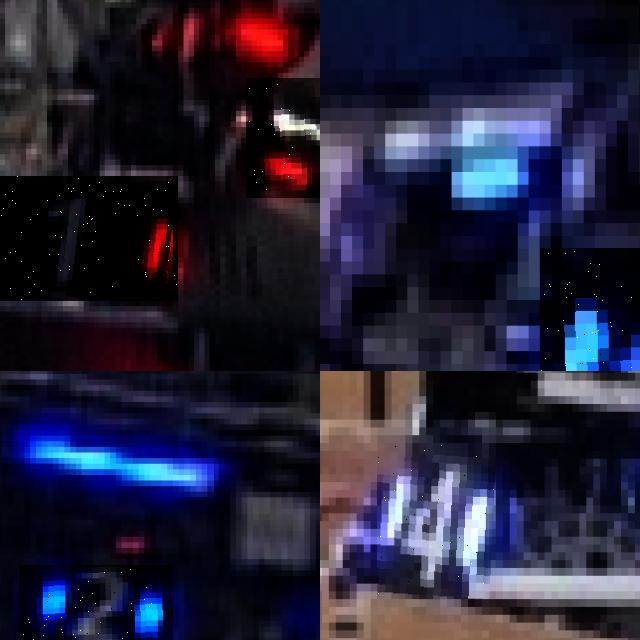B2: (18, 565, 173, 640)
B4: (377, 443, 496, 599), (539, 248, 640, 371)
R1: (0, 176, 178, 300), (246, 78, 320, 197)
